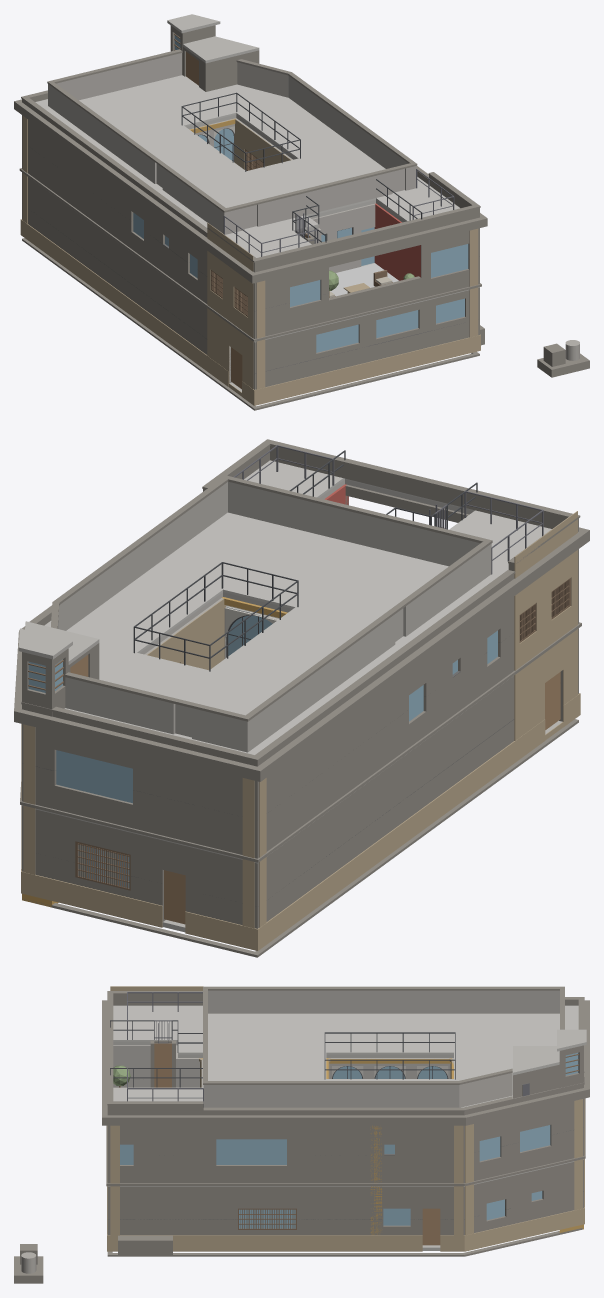
File: taif_house_V8.1.glb
The picture shows the model from 3 angles, top to bottom: view 1: azimuth 30°, elevation 25°; view 2: azimuth 150°, elevation 25°; view 3: azimuth 270°, elevation 25°; orthographic projection. The views are drawn at different scales.
Parts seen in each view (by area): view 1: roof_finish_floor, roof_attic_wall, gf_outer, ff_outer, chr_base_stone_plinth, roof_cornice, chr_base_stone_feature_wall_00, roof_attic_coping, chr_base_stone_quoins, roof_parapet_s, gf_air_outline, ff_low_court_south (+26 smaller); view 2: roof_finish_floor, ff_outer, roof_attic_wall, gf_outer, chr_base_stone_plinth, roof_cornice, chr_base_stone_feature_wall_00, roof_attic_coping, chr_base_stone_quoins, roof_parapet_s, roof_coping_n, gf_air_outline (+21 smaller); view 3: roof_finish_floor, ff_outer, roof_attic_wall, gf_outer, chr_base_stone_plinth, roof_cornice, chr_base_stone_quoins, roof_attic_coping, ff_band, chr_base_steel_roof_railings, roof_coping_n, roof_parapet_s (+36 smaller).
Boxes of the visible parts, bbox=[...] form: roof_finish_floor: bbox=[35, 75, 459, 257]; roof_attic_wall: bbox=[48, 53, 416, 234]; gf_outer: bbox=[22, 172, 479, 389]; ff_outer: bbox=[22, 115, 479, 338]; chr_base_stone_plinth: bbox=[20, 219, 480, 405]; roof_cornice: bbox=[14, 99, 487, 283]; chr_base_stone_feature_wall_00: bbox=[207, 222, 253, 396]; roof_attic_coping: bbox=[47, 49, 417, 212]; chr_base_stone_quoins: bbox=[22, 116, 478, 389]; roof_parapet_s: bbox=[253, 175, 479, 272]; gf_air_outline: bbox=[22, 238, 479, 410]; ff_low_court_south: bbox=[329, 276, 421, 320]; roof_finish_floor: bbox=[44, 460, 551, 754]; ff_outer: bbox=[22, 484, 578, 858]; roof_attic_wall: bbox=[57, 481, 491, 752]; gf_outer: bbox=[22, 628, 578, 928]; chr_base_stone_plinth: bbox=[21, 693, 580, 950]; roof_cornice: bbox=[14, 527, 589, 781]; chr_base_stone_feature_wall_00: bbox=[514, 511, 577, 740]; roof_attic_coping: bbox=[51, 475, 492, 721]; chr_base_stone_quoins: bbox=[21, 550, 577, 928]; roof_parapet_s: bbox=[203, 446, 578, 570]; roof_coping_n: bbox=[21, 570, 515, 761]; gf_air_outline: bbox=[24, 719, 578, 957]; roof_finish_floor: bbox=[113, 1005, 578, 1107]; ff_outer: bbox=[107, 1098, 583, 1183]; roof_attic_wall: bbox=[203, 990, 559, 1107]; gf_outer: bbox=[107, 1159, 583, 1235]; chr_base_stone_plinth: bbox=[107, 1159, 584, 1251]; roof_cornice: bbox=[102, 1000, 589, 1125]; chr_base_stone_quoins: bbox=[107, 1098, 584, 1235]; roof_attic_coping: bbox=[203, 986, 564, 1084]; ff_band: bbox=[106, 1085, 585, 1186]; chr_base_steel_roof_railings: bbox=[110, 1020, 455, 1087]; roof_coping_n: bbox=[203, 997, 584, 1111]; roof_parapet_s: bbox=[107, 995, 203, 1115].
Size of the model in its own units: 17.72 by 10.6 by 29.32.
